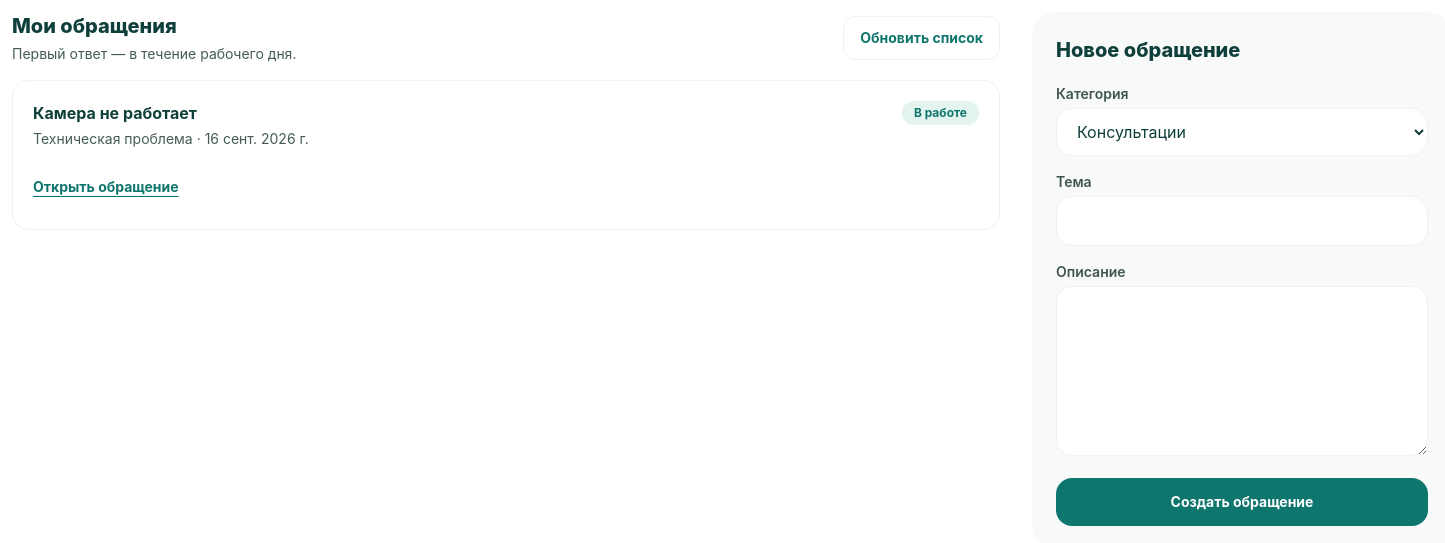
SupportCenter › ignores a late list response after a newer refresh has completed
The image size is (1445, 543).
Expected: the text "Камера не работает" is shown, [33,103,197,123]
Step 1. Click the button "Обновить список" → (922, 38), box [843,16,1000,60]
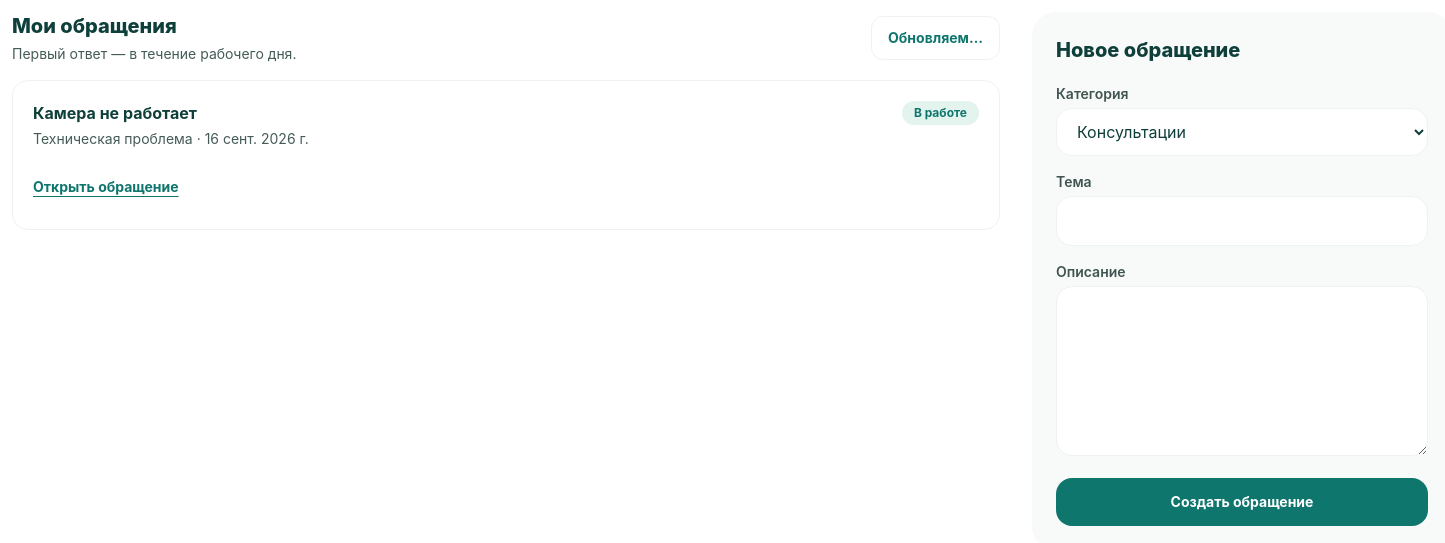
Expected: the button named "Обновить список" reads "Обновляем…"
Step 2. Click the button named "Обновить список" → (936, 38), box [871,16,1000,60]
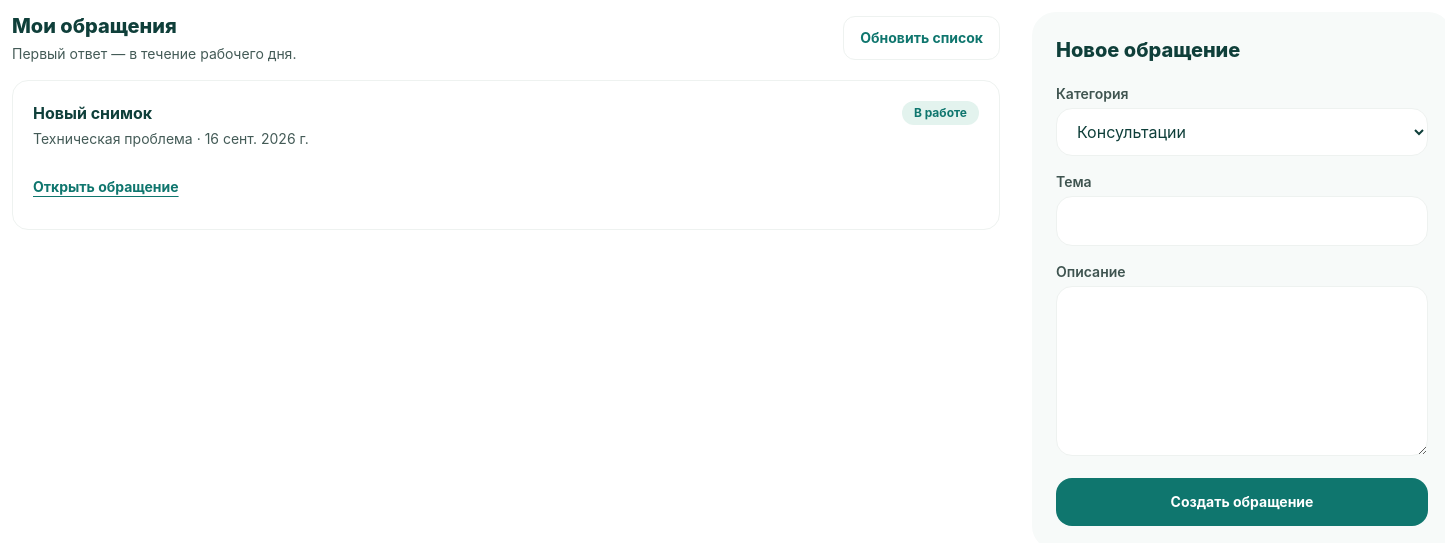
Expected: the text "Новый снимок" is shown, [33,103,152,123]
